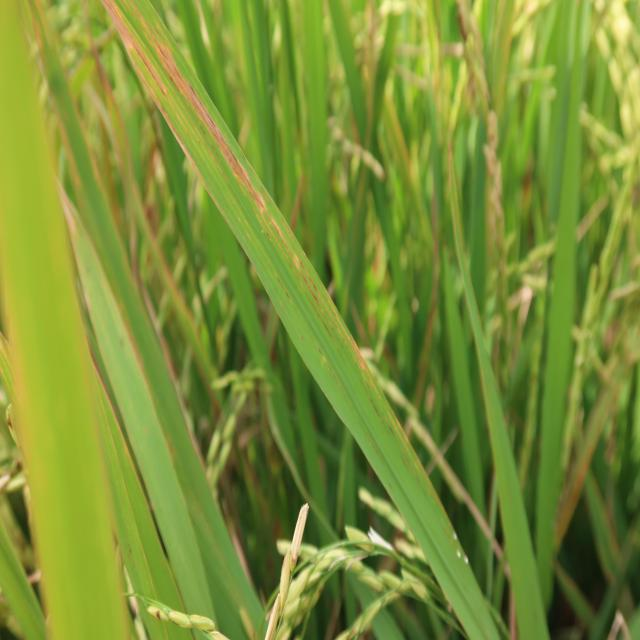Dom soc vi khuan: (125, 0, 454, 551)
